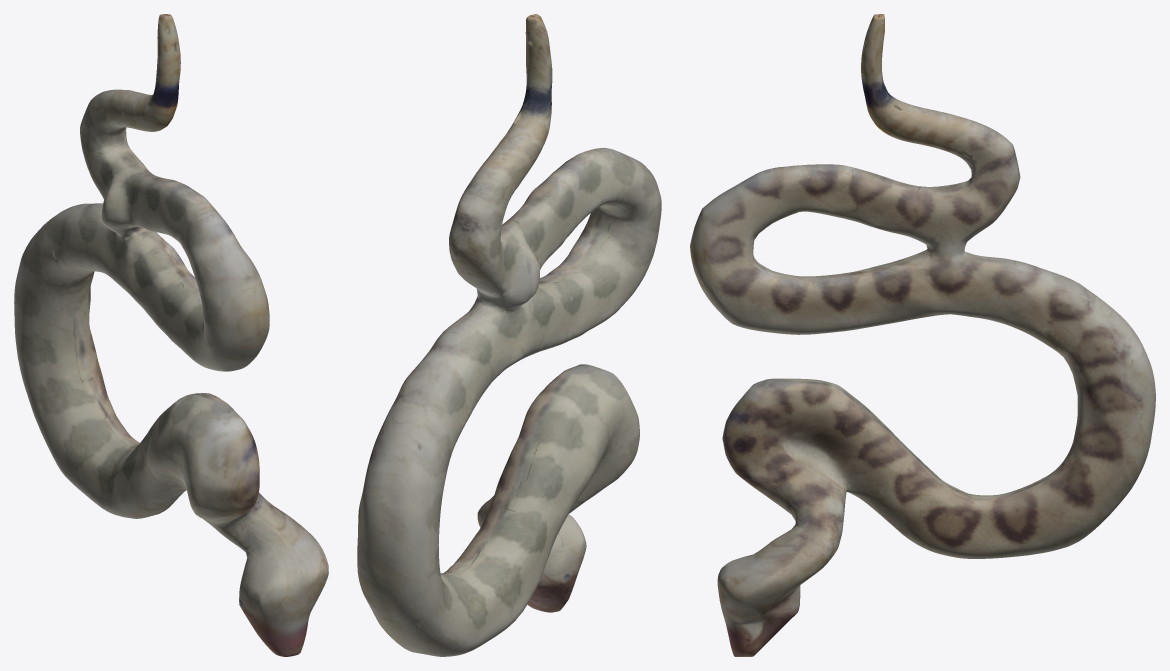
File: cobra2.fbx
The picture shows the model from 3 angles, left to right: view 1: azimuth 30°, elevation 25°; view 2: azimuth 150°, elevation 25°; view 3: azimuth 270°, elevation 25°; orthographic projection. The views are drawn at different scales.
Parts seen in each view (by area): view 1: Mesh_0; view 2: Mesh_0; view 3: Mesh_0.
Part boxes in pixels (x1,y1,x2,y2): Mesh_0: (14,14,328,656); Mesh_0: (357,14,661,656); Mesh_0: (690,14,1155,656).
Bounding box in the file's own units: 28.13 × 120 × 82.87.
1 material, 1 textured.
